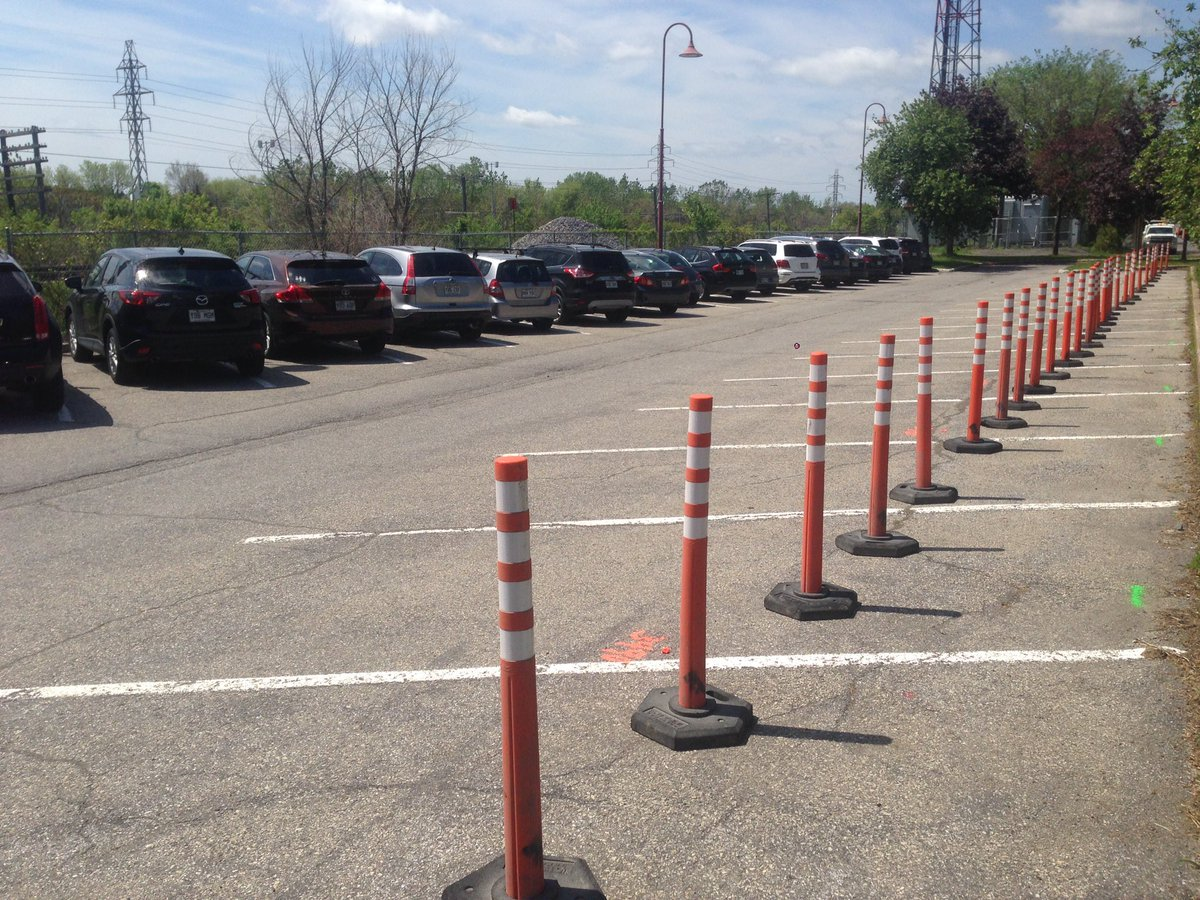empyt_space: (1, 494, 1198, 745), (1, 650, 1200, 889), (239, 429, 1200, 608), (493, 388, 1200, 468), (639, 361, 1200, 401), (725, 341, 1200, 382)
